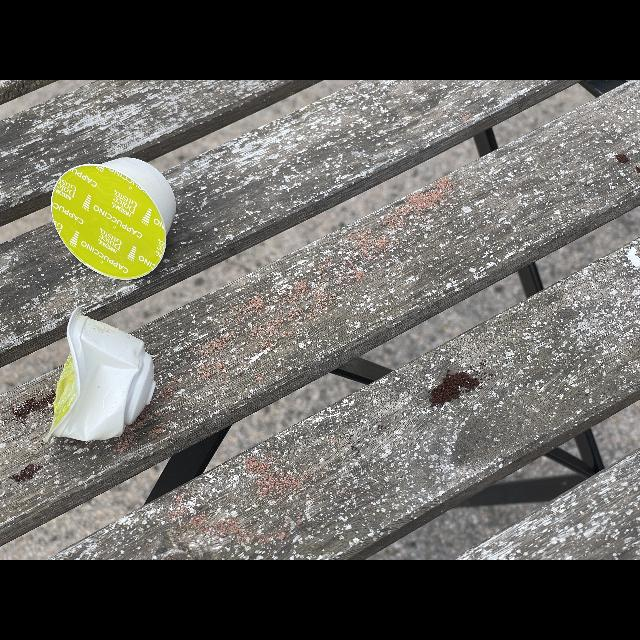damaged_capsule: (38, 306, 162, 454)
intact_capsule: (42, 154, 192, 284)
